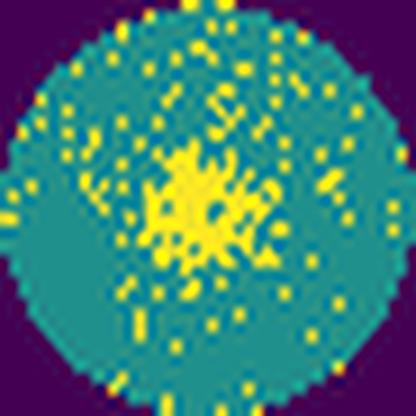Center: (135, 135, 278, 276)
